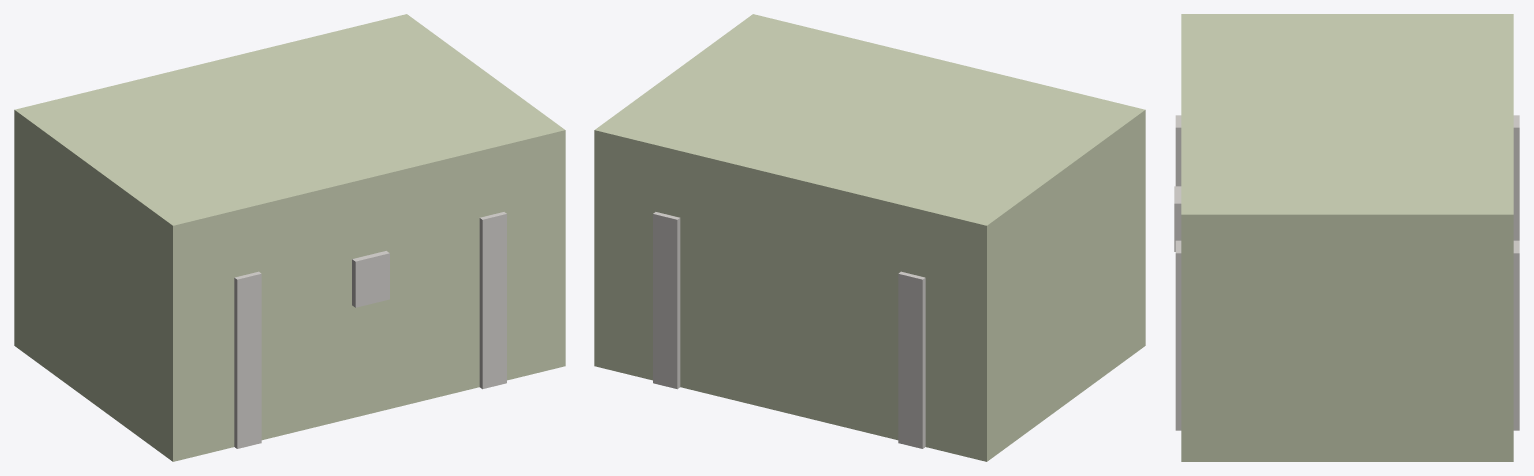
File: coffre_en_bois.glb
3 views of the same model, side by side, from view 1: azimuth 30°, elevation 25°; view 2: azimuth 150°, elevation 25°; view 3: azimuth 270°, elevation 25° (orthographic). The views are drawn at different scales.
Visible parts, largest first — view 1: couvercle, bois, ferrure; view 2: couvercle, bois, ferrure; view 3: couvercle, bois, ferrure.
Part boxes in pixels (<box>): couvercle: <box>14,14,565,297</box>; bois: <box>14,182,565,461</box>; ferrure: <box>234,212,506,448</box>; couvercle: <box>594,14,1145,297</box>; bois: <box>594,182,1145,461</box>; ferrure: <box>653,212,925,448</box>; couvercle: <box>1181,14,1513,289</box>; bois: <box>1181,290,1513,461</box>; ferrure: <box>1174,115,1519,430</box>.
Bounding box in the file's own units: 0.8 × 0.46 × 0.582.
